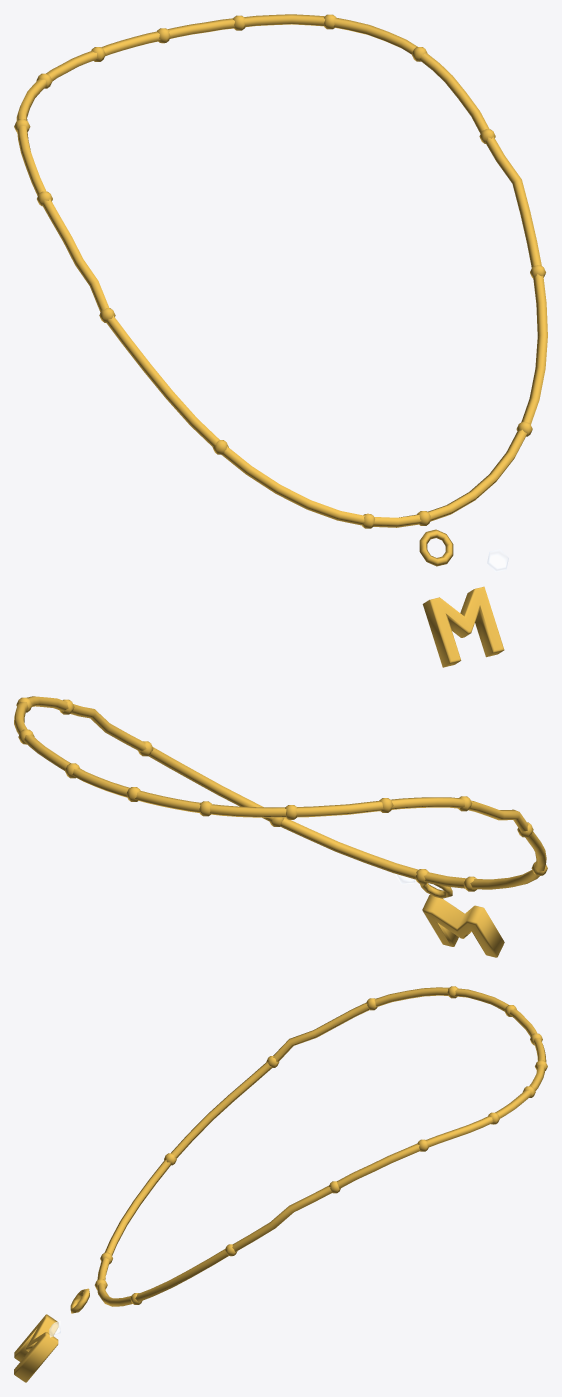
File: initial_necklace_m.glb
The picture shows the model from 3 angles, top to bottom: view 1: azimuth 30°, elevation 25°; view 2: azimuth 150°, elevation 25°; view 3: azimuth 270°, elevation 25°; orthographic projection. The views are drawn at different scales.
Visible parts, largest first — view 1: initial_necklace_m; view 2: initial_necklace_m; view 3: initial_necklace_m.
Part boxes in pixels (left/top/right/bottom): initial_necklace_m: left=14, top=14, right=547, bottom=667; initial_necklace_m: left=14, top=696, right=547, bottom=957; initial_necklace_m: left=14, top=986, right=547, bottom=1382.
Bounding box in the file's own units: 0.0912 × 0.0799 × 0.1213.
